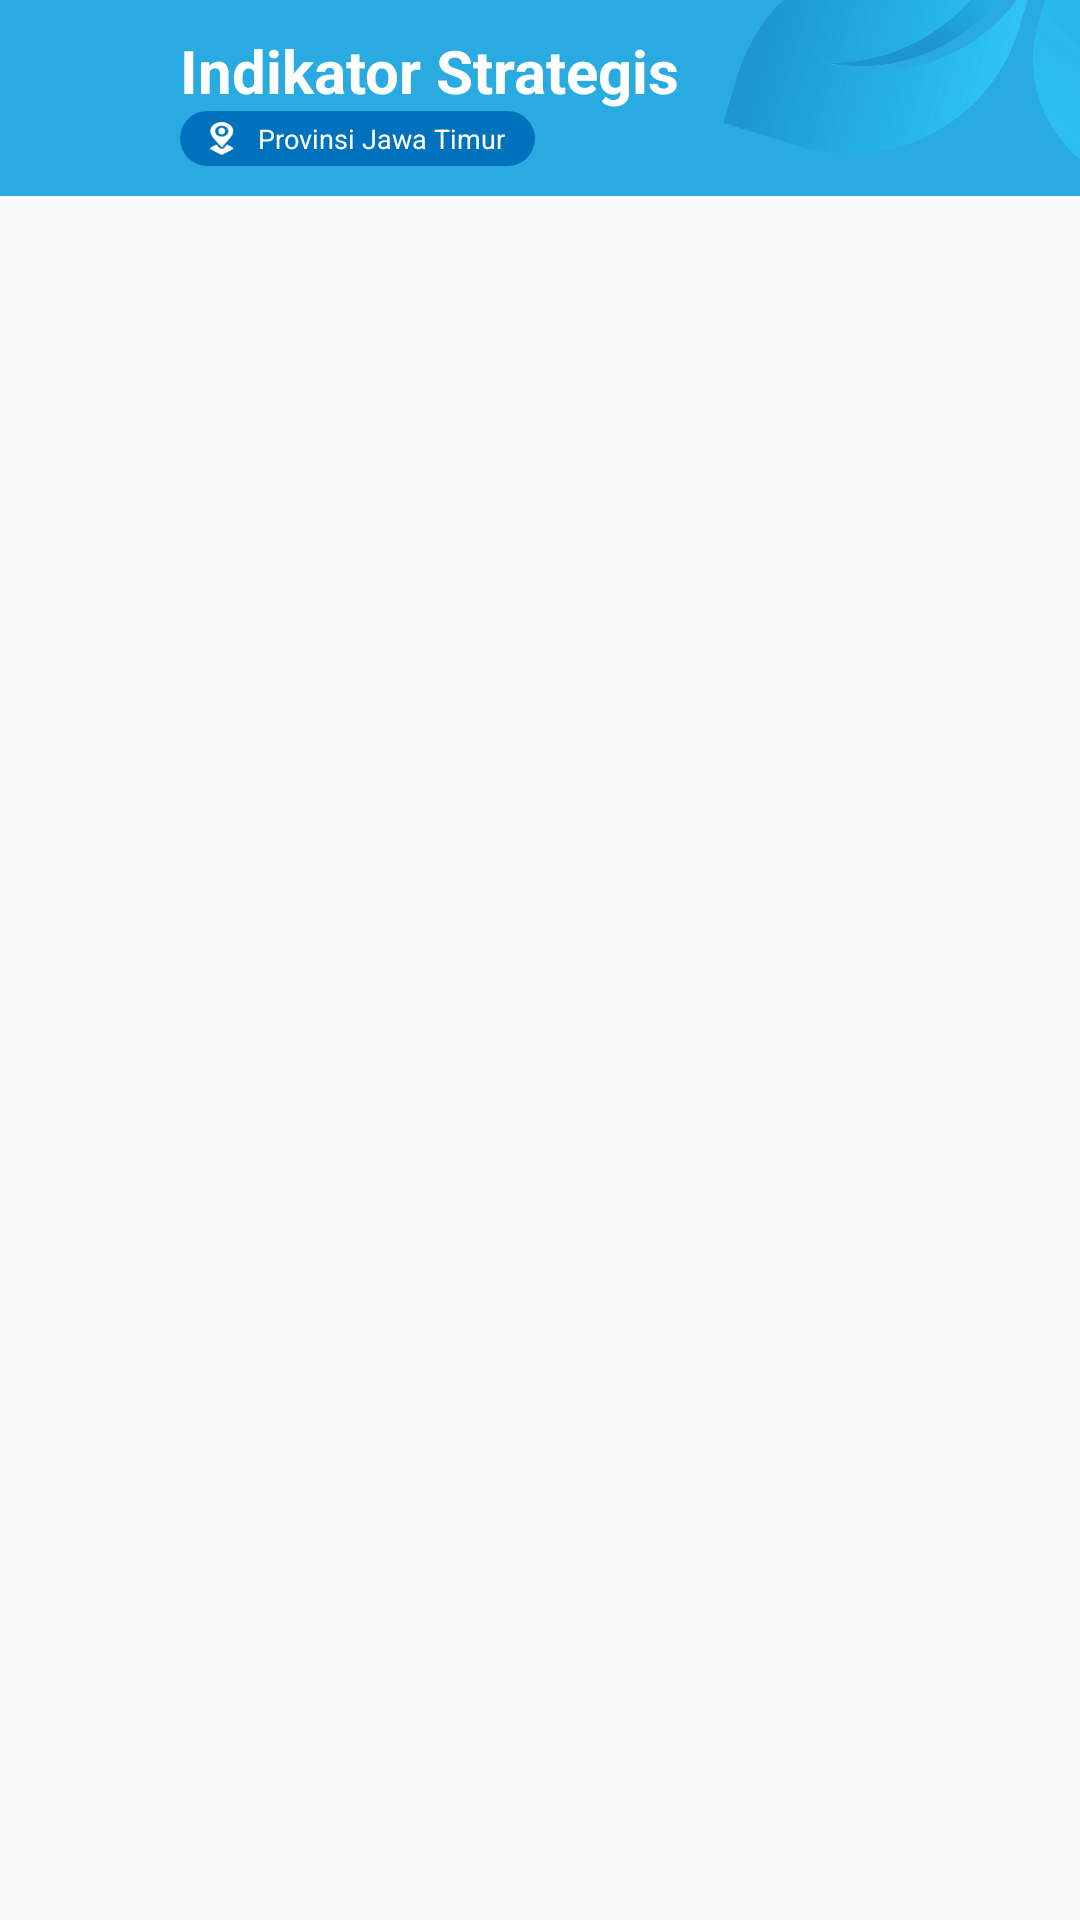

Named icons in this screenshot (1080x1920) and their bounding boxes, {"x1": x1, "y1": y1, "x2": x2, "y2": y2}:
location: {"x1": 210, "y1": 122, "x2": 234, "y2": 155}
